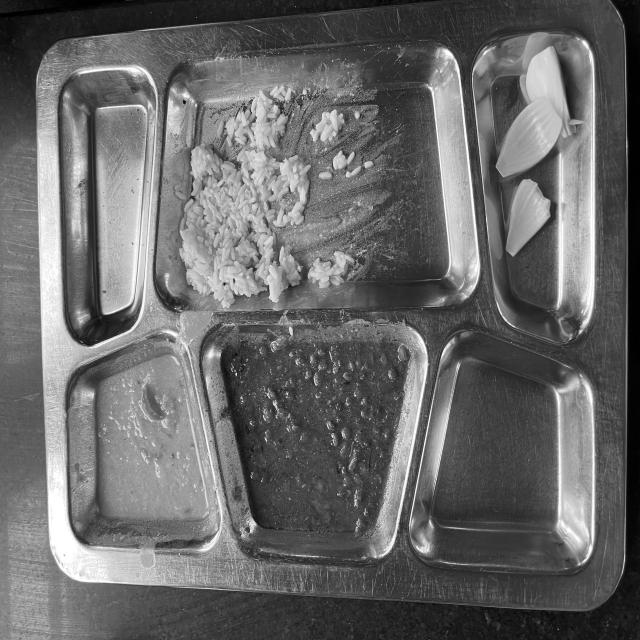20-Food-Left: (43, 39, 600, 583)
